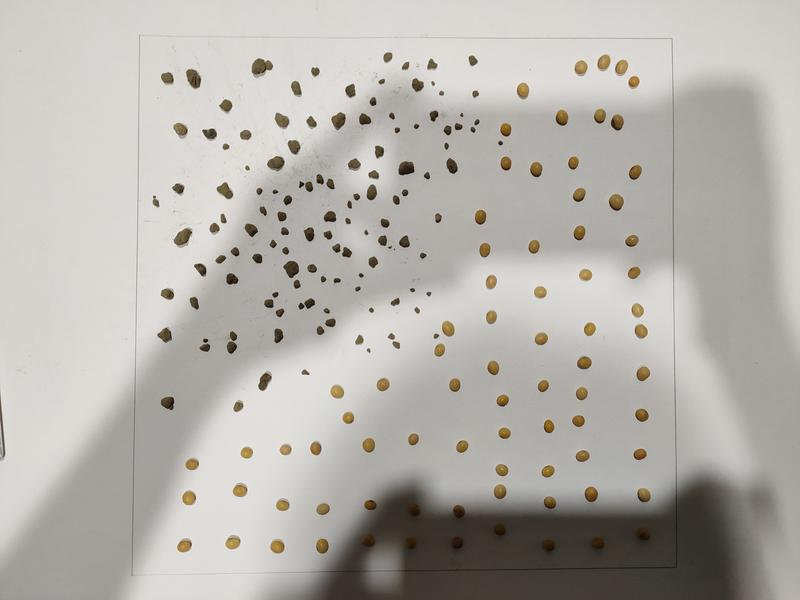Moti Mitti: (170, 226, 196, 247), (248, 56, 274, 76), (327, 110, 349, 132), (185, 69, 206, 89), (156, 327, 177, 345), (214, 182, 236, 199), (273, 111, 292, 130), (190, 261, 210, 279), (159, 395, 181, 411), (444, 158, 462, 177), (397, 160, 417, 177), (280, 261, 300, 278), (266, 156, 287, 172), (256, 373, 274, 390), (356, 111, 373, 128), (244, 222, 261, 239), (290, 78, 303, 100), (270, 324, 283, 346), (230, 397, 246, 414), (223, 272, 241, 287), (186, 296, 201, 312), (346, 158, 364, 171), (169, 184, 188, 196), (287, 139, 302, 154), (302, 226, 317, 241), (410, 78, 424, 94), (398, 234, 412, 250), (275, 210, 289, 225), (207, 221, 222, 235), (425, 58, 440, 72), (173, 123, 189, 136), (159, 73, 176, 85), (374, 144, 386, 161), (367, 253, 378, 271), (218, 99, 233, 112), (344, 83, 357, 98), (322, 210, 337, 223), (249, 252, 264, 265), (202, 128, 218, 140), (196, 343, 212, 355), (305, 116, 319, 129), (367, 94, 380, 108), (314, 324, 328, 337), (382, 51, 394, 66), (388, 297, 404, 308), (230, 247, 243, 260), (342, 247, 354, 261), (214, 253, 226, 267), (304, 297, 318, 309), (239, 130, 254, 141), (225, 340, 236, 355), (366, 185, 376, 201), (313, 173, 325, 186), (325, 178, 338, 190), (264, 298, 277, 310), (308, 66, 322, 77), (323, 317, 337, 328), (152, 194, 161, 210), (422, 170, 434, 182), (283, 194, 295, 206), (304, 181, 317, 192), (433, 212, 444, 225), (322, 230, 335, 241), (279, 226, 292, 237), (257, 205, 270, 216), (379, 217, 392, 228), (228, 329, 239, 342), (305, 263, 319, 273), (427, 111, 441, 121), (368, 169, 380, 180), (377, 235, 388, 247), (391, 194, 402, 205), (331, 243, 342, 254), (291, 279, 304, 288), (254, 187, 265, 197), (442, 126, 453, 136), (280, 246, 292, 255), (219, 212, 228, 224), (355, 335, 364, 347), (386, 331, 396, 341), (401, 62, 412, 71), (333, 277, 344, 286), (270, 290, 281, 299), (454, 122, 465, 131), (274, 309, 286, 317), (301, 370, 313, 378), (398, 189, 411, 196), (221, 142, 230, 152), (345, 199, 354, 209), (424, 289, 433, 298), (392, 341, 401, 350), (272, 188, 280, 197), (345, 217, 353, 226), (323, 305, 331, 314), (197, 337, 215, 341), (471, 90, 480, 98), (436, 90, 446, 97), (406, 286, 416, 293), (320, 274, 327, 284), (412, 308, 422, 315), (298, 301, 305, 311), (378, 78, 387, 85), (418, 252, 427, 259), (388, 112, 397, 119), (358, 271, 365, 279), (368, 307, 375, 315), (394, 128, 402, 135), (430, 80, 436, 89), (299, 181, 304, 191), (353, 193, 360, 200), (355, 285, 361, 293), (244, 166, 250, 173), (363, 230, 369, 237), (414, 124, 420, 130)
Soybean: (483, 358, 504, 378), (492, 481, 513, 501), (360, 434, 378, 456), (574, 356, 597, 373), (606, 193, 626, 212), (582, 486, 601, 506), (581, 319, 600, 338), (441, 320, 460, 339), (594, 54, 612, 73), (633, 364, 651, 383), (477, 240, 494, 260), (474, 208, 491, 228), (497, 155, 517, 172), (224, 536, 246, 551), (432, 341, 449, 360), (306, 440, 325, 457), (314, 537, 331, 556), (310, 503, 333, 517), (538, 463, 558, 479), (573, 449, 594, 464), (572, 60, 590, 77), (635, 488, 653, 505), (233, 484, 251, 501), (175, 537, 193, 554), (540, 538, 558, 555), (572, 225, 588, 244), (621, 233, 640, 249), (570, 187, 589, 203), (633, 323, 650, 340), (446, 377, 463, 394), (628, 164, 645, 181), (375, 377, 392, 394), (531, 284, 549, 300), (554, 109, 570, 127), (533, 332, 552, 347), (633, 527, 652, 542), (268, 540, 288, 554), (533, 380, 554, 393), (527, 238, 542, 256), (341, 411, 359, 426), (276, 498, 294, 513), (611, 114, 625, 133), (516, 81, 530, 100), (615, 58, 628, 78), (493, 464, 513, 477), (361, 499, 381, 512), (484, 309, 499, 326), (529, 161, 544, 178), (498, 120, 513, 137), (574, 388, 591, 403), (542, 496, 559, 511), (484, 274, 498, 292), (453, 504, 467, 522), (630, 303, 646, 318), (181, 490, 196, 506), (406, 431, 421, 447), (593, 107, 607, 124), (542, 418, 556, 435), (590, 538, 607, 552), (455, 439, 469, 455), (329, 385, 345, 399), (183, 459, 201, 471), (626, 266, 641, 280), (567, 156, 581, 171), (635, 409, 649, 424), (633, 448, 648, 462), (571, 414, 586, 428), (628, 74, 641, 90), (497, 427, 513, 440), (278, 445, 295, 457), (408, 504, 422, 518), (495, 394, 510, 407), (578, 269, 594, 281), (241, 448, 255, 460)
